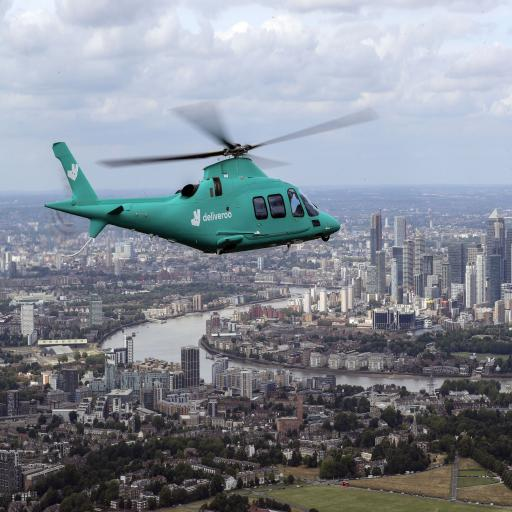helicopter: (45, 92, 381, 261)
